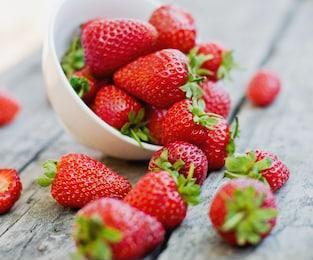Fresa: (109, 46, 200, 111), (75, 15, 163, 78), (46, 149, 133, 212), (123, 168, 189, 229), (146, 137, 211, 190), (93, 81, 149, 139), (236, 146, 297, 195), (160, 97, 208, 149)
